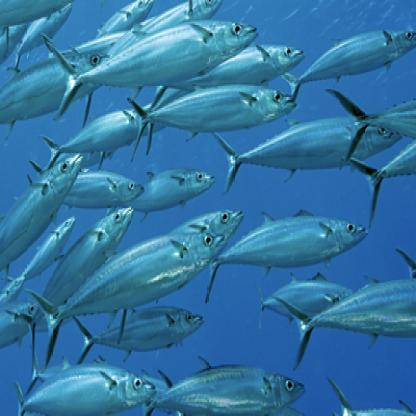tuna: (29, 228, 230, 372), (36, 14, 263, 115), (205, 203, 374, 303), (218, 112, 406, 197), (126, 81, 297, 170), (1, 146, 84, 281), (72, 295, 205, 362), (156, 367, 310, 414)
